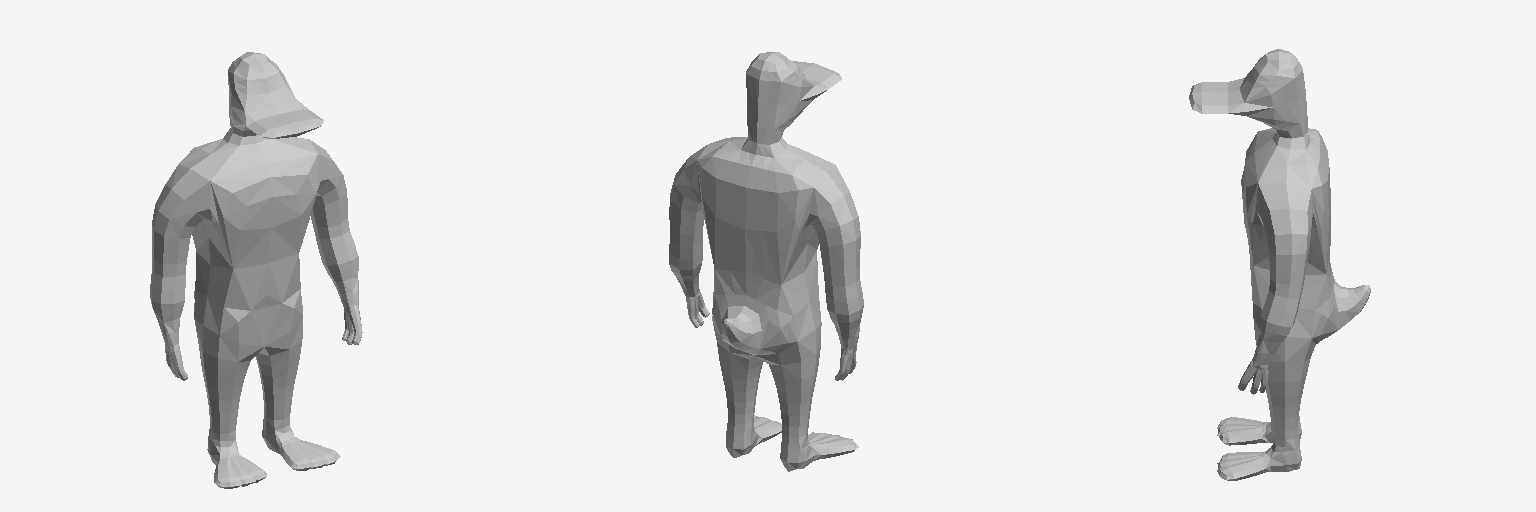
File: canard_000002.obj
The picture shows the model from 3 angles: view 1: azimuth 30°, elevation 25°; view 2: azimuth 150°, elevation 25°; view 3: azimuth 270°, elevation 25°; orthographic projection.
Parts seen in each view (by area): view 1: Cube; view 2: Cube; view 3: Cube.
Part boxes in pixels (left/top/right/bottom): Cube: left=150, top=52, right=362, bottom=488; Cube: left=669, top=52, right=863, bottom=471; Cube: left=1189, top=49, right=1370, bottom=480.
Size of the model in its own units: 1.42 by 2.8 by 1.14.